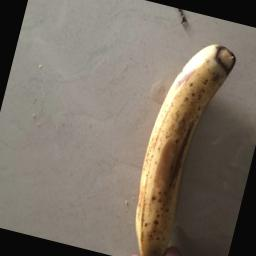Banana Ripe: (105, 25, 248, 256)
